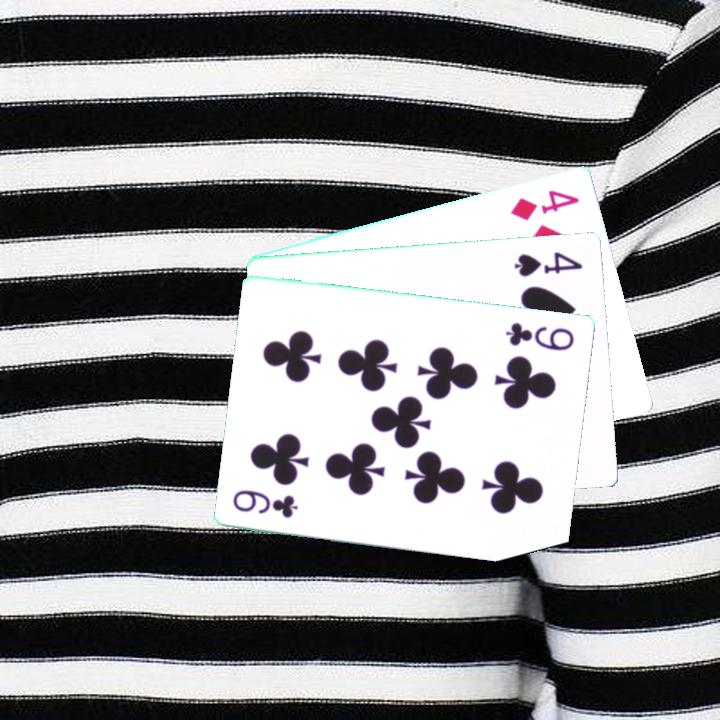4d: (507, 185, 583, 223)
4s: (511, 248, 586, 279)
9c: (502, 318, 578, 354), (230, 485, 302, 521)
